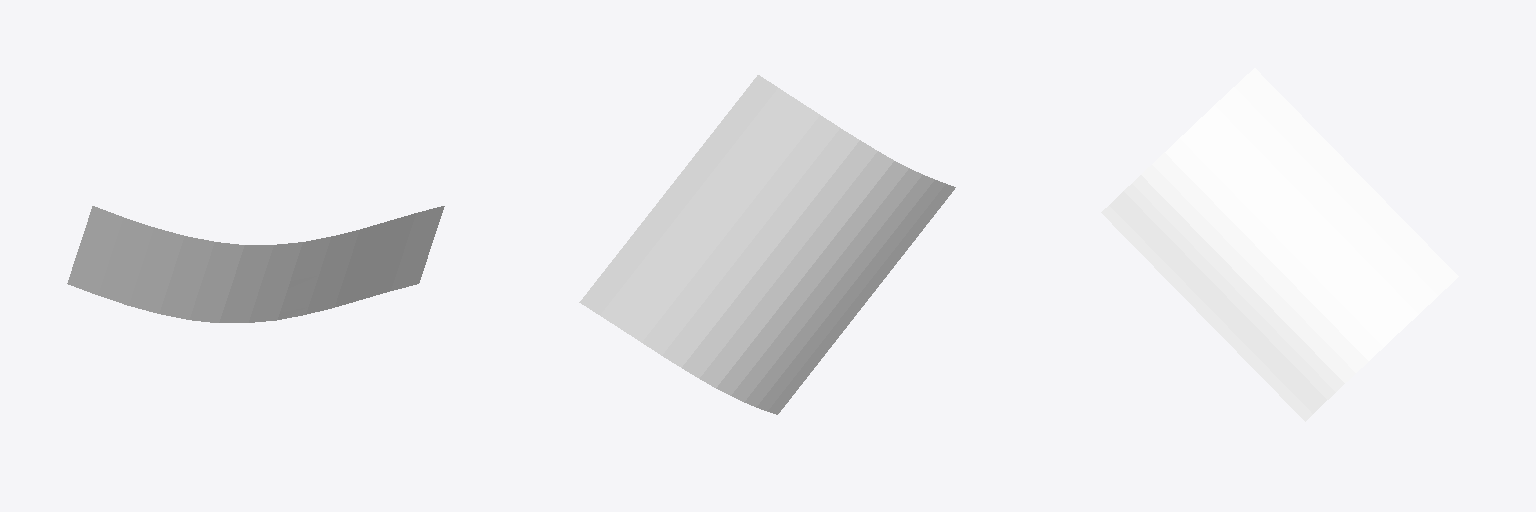
Rendered from title_screen_flag.obj.
3 renders of one model, left to right at view 1: azimuth 30°, elevation 25°; view 2: azimuth 150°, elevation 25°; view 3: azimuth 270°, elevation 25°, orthographic.
Parts seen in each view (by area): view 1: Shape_IndexedFaceSet.037; view 2: Shape_IndexedFaceSet.037; view 3: Shape_IndexedFaceSet.037.
Part boxes in pixels (left/top/right/bottom): Shape_IndexedFaceSet.037: left=67, top=206, right=444, bottom=322; Shape_IndexedFaceSet.037: left=579, top=75, right=955, bottom=414; Shape_IndexedFaceSet.037: left=1101, top=68, right=1458, bottom=421.
Bounding box in the file's own units: 1.17 × 0.649 × 1.03.